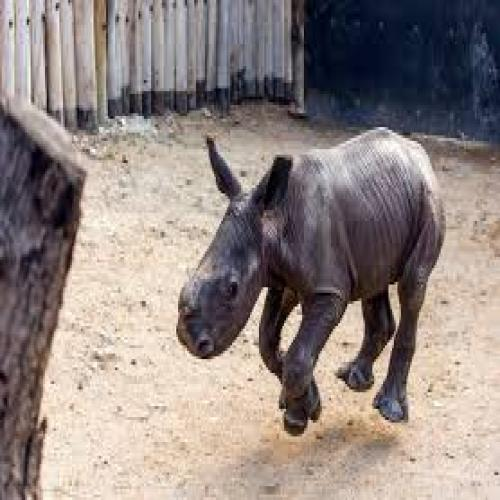rhino-endangered: (172, 129, 446, 433)
